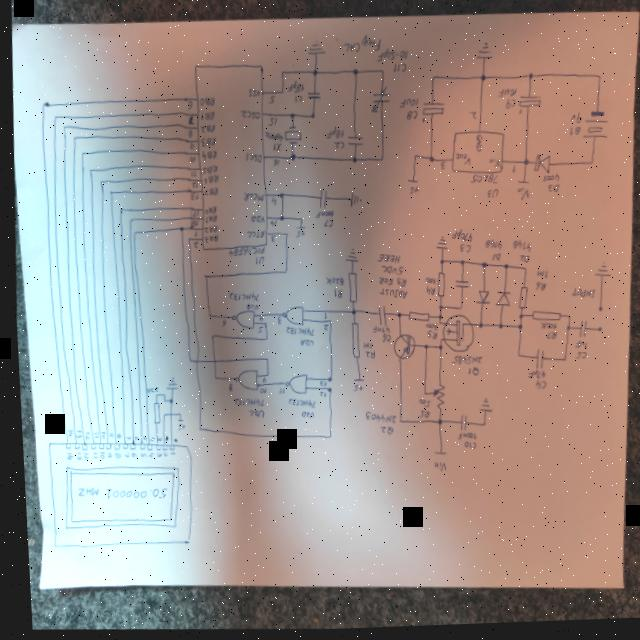capacitor: (368, 88, 391, 117), (418, 104, 444, 127), (516, 98, 541, 120), (530, 352, 541, 375), (345, 136, 362, 150), (372, 308, 383, 329), (573, 323, 585, 342), (450, 281, 467, 294), (305, 91, 321, 104), (454, 417, 465, 435), (317, 191, 326, 211)
crossover: (207, 359, 214, 366), (191, 359, 196, 365), (164, 414, 168, 418)
diode: (530, 158, 550, 179), (471, 292, 489, 309), (491, 294, 508, 312)
ground: (473, 43, 494, 66), (306, 41, 326, 59), (589, 266, 609, 283), (472, 400, 489, 418), (341, 249, 357, 266), (346, 195, 360, 211), (161, 378, 175, 392), (432, 239, 445, 253)
junction: (478, 76, 486, 86), (513, 315, 521, 325), (310, 71, 318, 79), (288, 155, 295, 164), (349, 158, 356, 167), (351, 70, 358, 79), (426, 157, 433, 166), (526, 76, 533, 84), (199, 274, 206, 282), (96, 179, 103, 187), (474, 324, 480, 333), (494, 325, 500, 334), (106, 189, 112, 198), (521, 162, 527, 170), (432, 421, 438, 429), (595, 78, 601, 86), (419, 346, 425, 354), (513, 327, 519, 335), (429, 77, 435, 85), (434, 346, 440, 354), (116, 206, 122, 214), (288, 113, 294, 121), (378, 71, 384, 78), (40, 101, 46, 108), (280, 271, 286, 277), (176, 227, 182, 233), (276, 194, 282, 200), (478, 265, 484, 271), (562, 329, 567, 336), (193, 426, 198, 433), (126, 218, 131, 225), (348, 311, 353, 318), (323, 378, 328, 385), (309, 116, 314, 122), (587, 164, 592, 170), (411, 156, 416, 162), (500, 267, 505, 273), (558, 361, 563, 367), (322, 436, 327, 442), (377, 159, 382, 165), (209, 376, 214, 382), (279, 72, 284, 78), (455, 308, 460, 314), (477, 425, 482, 431), (456, 263, 461, 269), (184, 359, 189, 365), (86, 168, 91, 174), (434, 317, 439, 323), (130, 231, 134, 238), (323, 388, 327, 395), (184, 238, 189, 243), (512, 356, 516, 362), (79, 151, 83, 157), (207, 335, 211, 341), (204, 314, 208, 320), (435, 307, 439, 313), (393, 315, 397, 321), (52, 115, 56, 121), (61, 124, 65, 130), (277, 217, 281, 223), (436, 262, 440, 268), (165, 399, 169, 405), (282, 233, 286, 239), (260, 323, 264, 328), (71, 136, 75, 141), (297, 220, 301, 225), (563, 319, 567, 324), (279, 92, 283, 97), (394, 422, 398, 426), (261, 359, 265, 363), (261, 339, 265, 343), (520, 271, 524, 275), (158, 400, 162, 404), (151, 393, 154, 398), (435, 324, 438, 328), (262, 375, 265, 379), (419, 395, 422, 399), (174, 414, 177, 418), (158, 414, 161, 418), (325, 322, 328, 326), (159, 394, 161, 398)
resistor: (426, 386, 442, 413), (346, 324, 357, 361), (343, 273, 355, 305), (527, 314, 557, 326), (404, 312, 426, 326), (433, 274, 444, 301), (513, 290, 525, 314), (148, 402, 157, 425)
source: (580, 113, 608, 147)
terminal: (428, 453, 442, 459), (348, 380, 361, 385), (593, 329, 599, 338), (515, 184, 527, 188), (404, 182, 416, 186), (594, 310, 600, 317), (293, 228, 303, 232), (172, 419, 179, 424)
text: (71, 484, 162, 504), (339, 36, 381, 56), (225, 247, 263, 261), (375, 50, 408, 66), (360, 413, 391, 428), (230, 397, 261, 411), (447, 356, 478, 370), (282, 326, 312, 340), (224, 292, 257, 304), (375, 290, 405, 303), (283, 398, 312, 411), (375, 278, 404, 291), (448, 231, 470, 247), (467, 177, 496, 189), (567, 291, 593, 304), (323, 128, 344, 144), (508, 242, 529, 257), (239, 110, 260, 124), (286, 81, 304, 97), (398, 99, 418, 113), (373, 256, 397, 267), (496, 90, 516, 103), (377, 267, 400, 278), (243, 153, 261, 167), (263, 132, 281, 146), (243, 230, 263, 242), (312, 210, 332, 222), (522, 372, 542, 384), (199, 150, 216, 164), (481, 241, 499, 254), (241, 193, 262, 204), (539, 176, 558, 188), (201, 174, 217, 188), (243, 409, 260, 422), (427, 462, 442, 476), (451, 434, 472, 444), (322, 278, 341, 289), (514, 190, 527, 206), (198, 137, 215, 149), (472, 137, 482, 157), (200, 165, 216, 177), (453, 156, 467, 169), (391, 65, 406, 77), (198, 124, 214, 135), (198, 97, 214, 108), (536, 325, 553, 335), (368, 328, 386, 337), (484, 191, 497, 203), (374, 427, 388, 438), (403, 114, 418, 124), (201, 235, 216, 245), (201, 188, 216, 198), (199, 112, 214, 122), (200, 226, 216, 235), (568, 116, 580, 128), (570, 343, 583, 354), (296, 340, 310, 350), (487, 161, 498, 173), (533, 272, 545, 283), (530, 383, 542, 394), (503, 101, 514, 113), (567, 130, 579, 141), (456, 247, 469, 257), (202, 206, 215, 216), (248, 217, 262, 226), (542, 334, 553, 345), (247, 90, 259, 100), (332, 143, 344, 153), (203, 215, 215, 225), (414, 401, 426, 411), (531, 285, 543, 295), (141, 387, 155, 395), (422, 288, 432, 299), (251, 257, 262, 267), (463, 369, 474, 379), (330, 289, 339, 301), (243, 304, 255, 313), (459, 444, 471, 453), (545, 187, 557, 196), (297, 413, 310, 421), (516, 257, 526, 267), (321, 221, 331, 231), (266, 119, 276, 129), (423, 333, 433, 343), (406, 189, 417, 198), (291, 232, 303, 240), (413, 413, 425, 421), (570, 355, 582, 363), (422, 326, 434, 334), (266, 220, 275, 230), (422, 280, 432, 289), (361, 353, 371, 362), (271, 144, 280, 154), (488, 256, 498, 265), (266, 97, 275, 107), (293, 97, 302, 106), (270, 160, 278, 170), (437, 164, 445, 174), (379, 336, 387, 346), (348, 386, 358, 394), (172, 424, 181, 432), (60, 452, 69, 460), (254, 388, 262, 397), (359, 344, 368, 352), (188, 194, 197, 202), (268, 198, 275, 208), (185, 102, 192, 112), (186, 117, 193, 127), (467, 115, 475, 123), (188, 182, 196, 190), (189, 221, 197, 229), (217, 320, 224, 329), (314, 393, 323, 400), (78, 452, 84, 462), (71, 429, 77, 439), (80, 432, 86, 442), (315, 383, 323, 390), (267, 237, 274, 245), (70, 452, 77, 460), (187, 156, 194, 164), (190, 211, 197, 219), (254, 327, 260, 336), (319, 325, 325, 334), (137, 435, 143, 444), (186, 130, 191, 140), (274, 388, 280, 396), (273, 318, 279, 326), (87, 452, 93, 460), (94, 452, 100, 460), (63, 429, 69, 437), (89, 431, 95, 439), (189, 171, 195, 179), (190, 242, 196, 250), (96, 431, 101, 440), (224, 384, 229, 393), (101, 452, 107, 459), (109, 453, 116, 459), (118, 452, 124, 459), (142, 453, 149, 459), (136, 452, 142, 459), (103, 432, 109, 439), (509, 169, 514, 177), (188, 143, 193, 151), (126, 453, 132, 459), (151, 452, 157, 458), (129, 436, 135, 442), (111, 434, 117, 440), (152, 436, 157, 443), (144, 438, 151, 443), (120, 436, 127, 441), (320, 314, 324, 322), (160, 436, 164, 444), (191, 231, 195, 239), (158, 452, 163, 458), (255, 317, 259, 324), (258, 379, 262, 385), (165, 452, 171, 456), (168, 439, 173, 443)
transistor: (437, 316, 472, 356), (388, 336, 412, 364)
